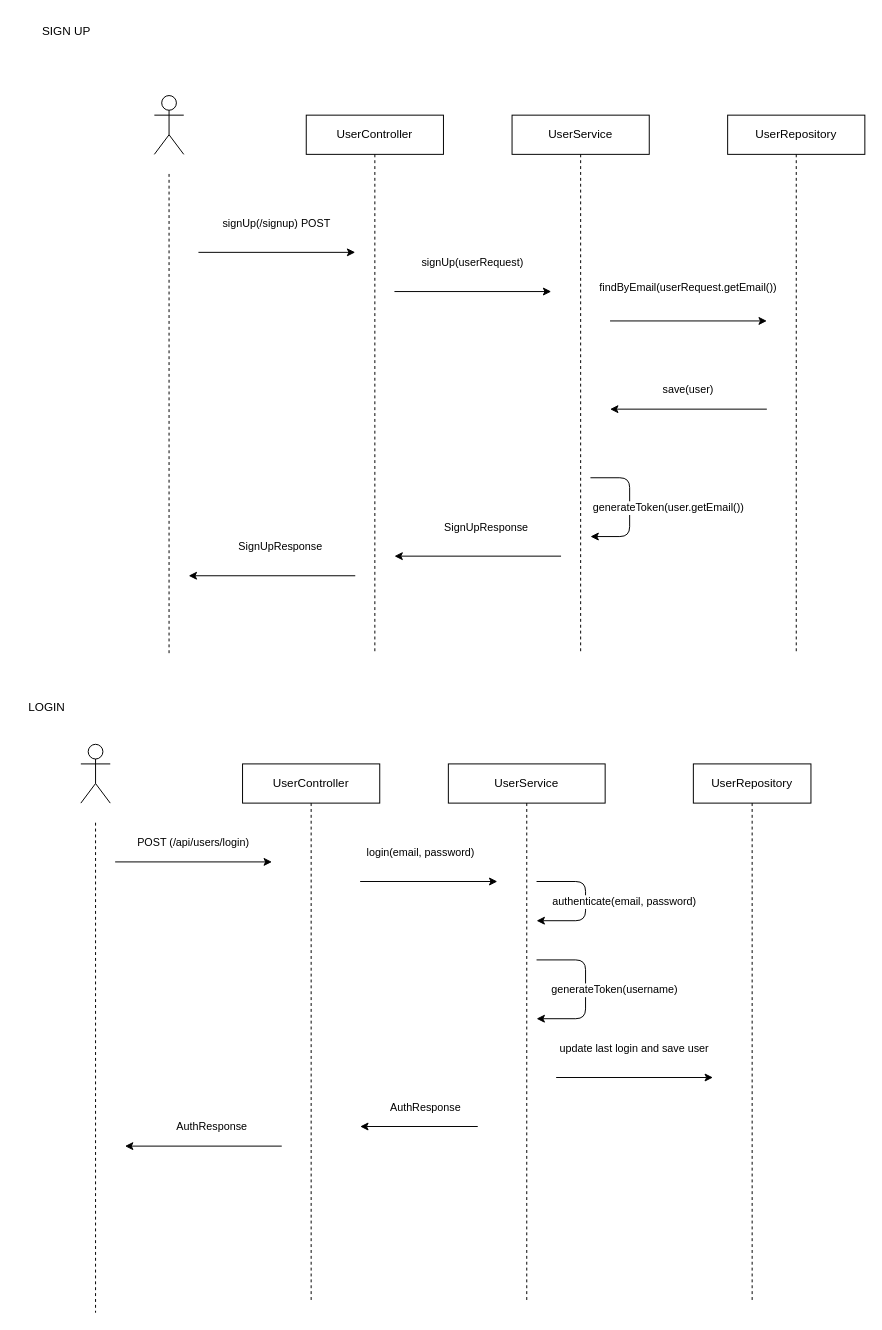
This 882x1330 diagram has some shape labels left out. Each missing label, with the box of its shape:
Potential User: (99, 173, 238, 654)
User: (26, 822, 164, 1313)
